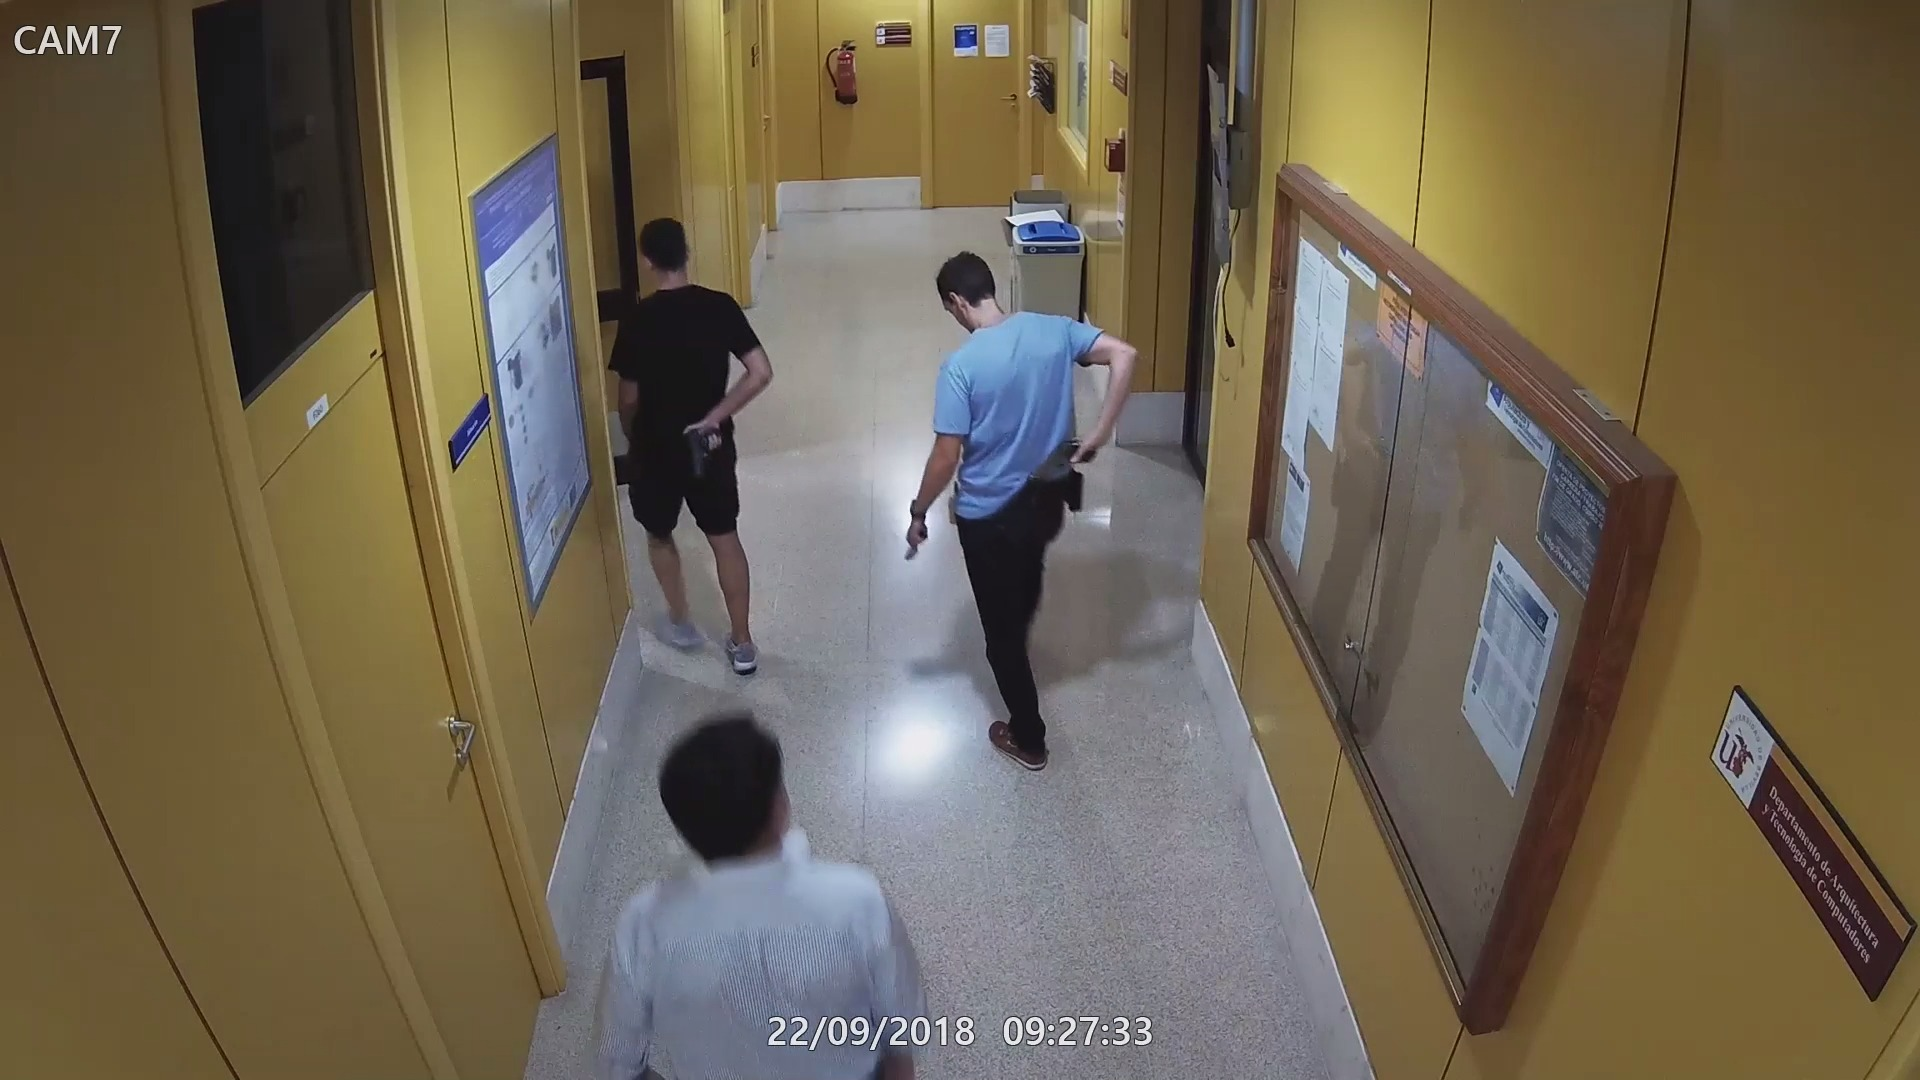Handgun: (1030, 447, 1105, 485), (684, 413, 727, 477)
Knife: (899, 529, 936, 564)
